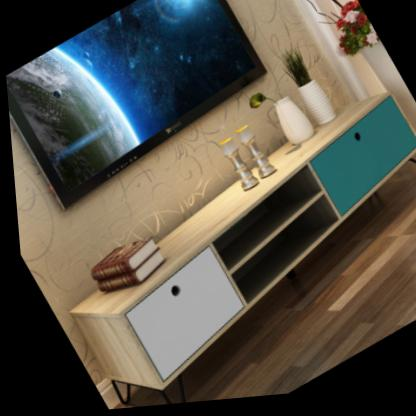TV stand: (65, 99, 416, 407)
Wooden floor: (176, 169, 416, 405)
